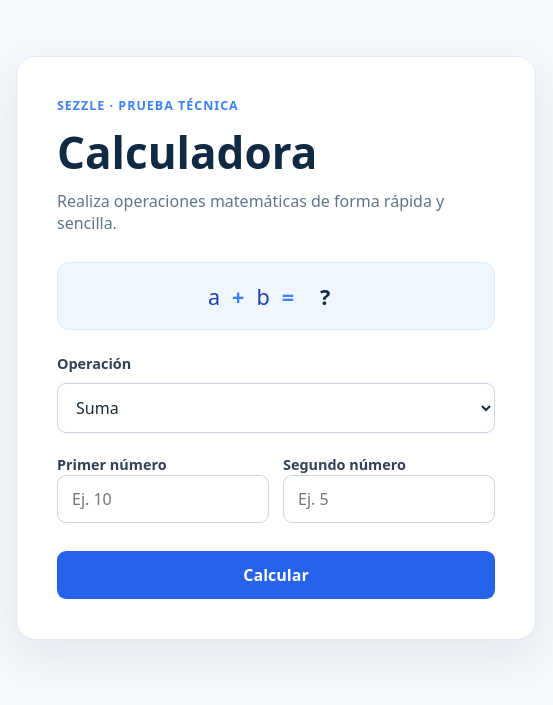
Test: Calculator › clears the result when editing Primer número
Type "10" into the field labelled "Primer número" at (163, 499), box top-left (57, 475), bottom-right (269, 523)
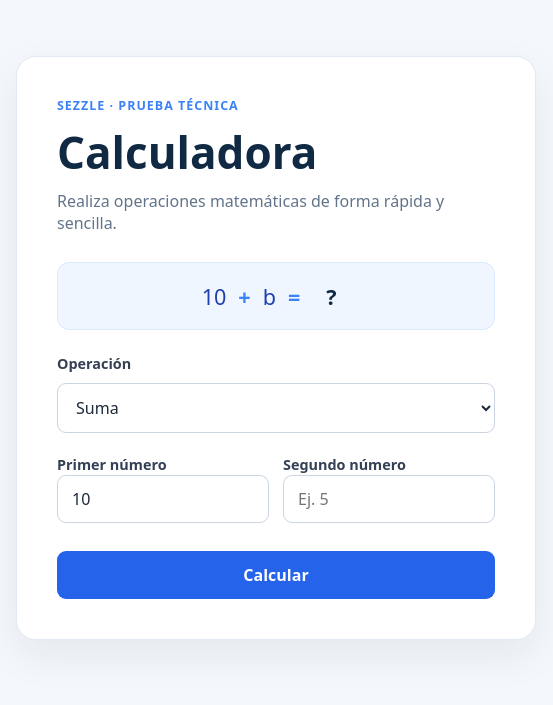
Type "5" into the field labelled "Segundo número" at (389, 499), box top-left (283, 475), bottom-right (495, 523)
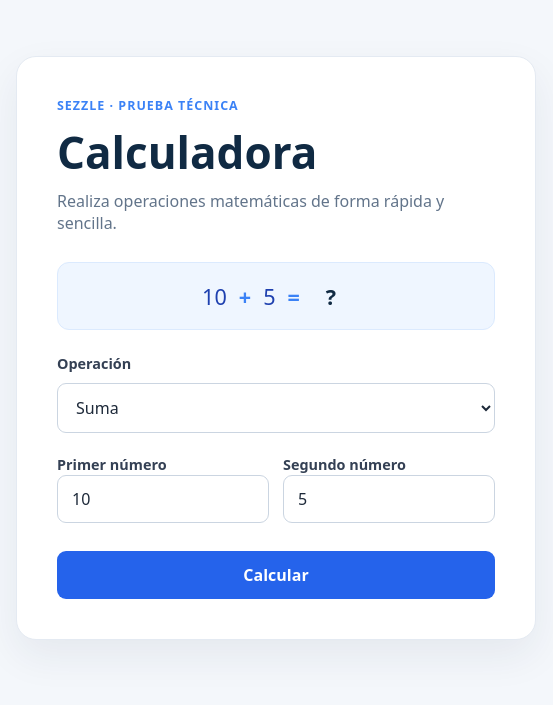
Click the button "Calcular" at (276, 575), box top-left (57, 551), bottom-right (495, 599)
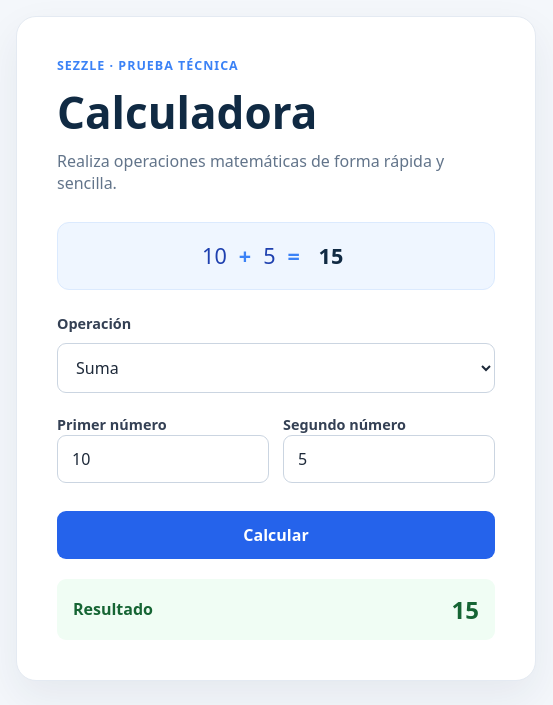
Now the message shows "15", box top-left (452, 592), bottom-right (479, 626)
Replace the text in the field labelled "Primer número" with "20" at (163, 458), box top-left (57, 434), bottom-right (269, 482)
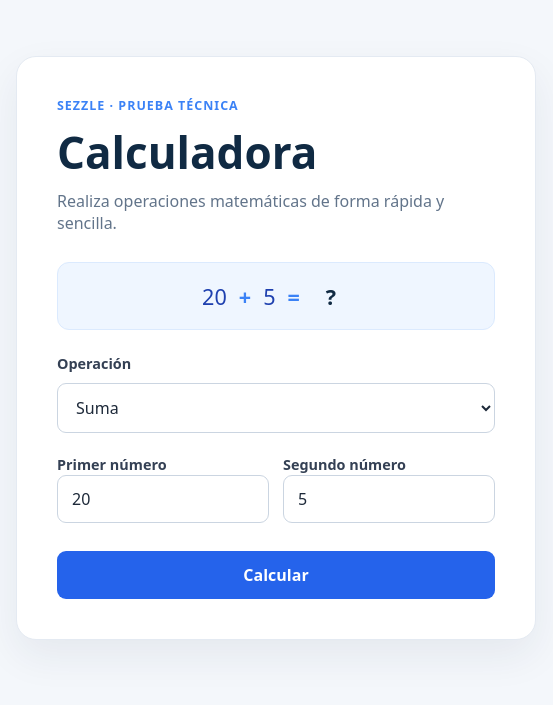
Now the message "Resultado 15" is gone
